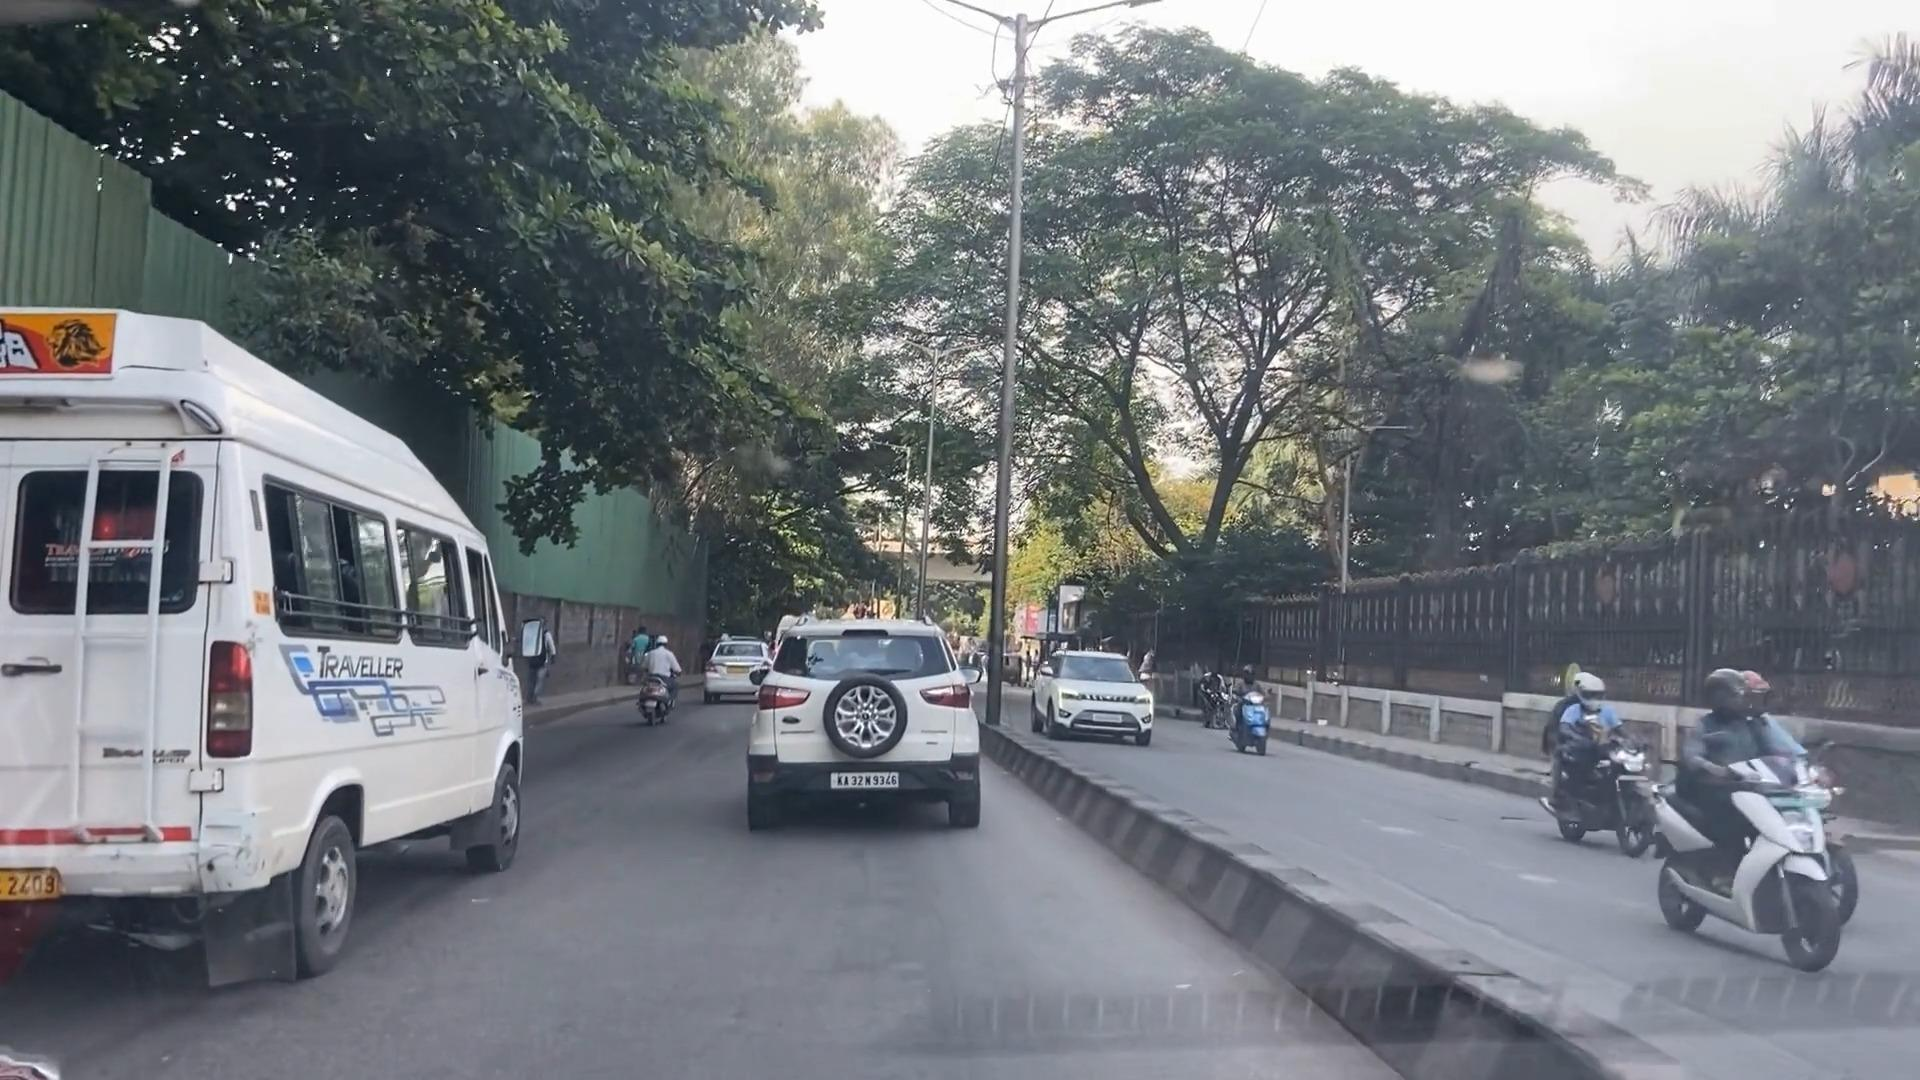HMV: (25, 323, 539, 990)
LMV: (720, 608, 989, 844)
